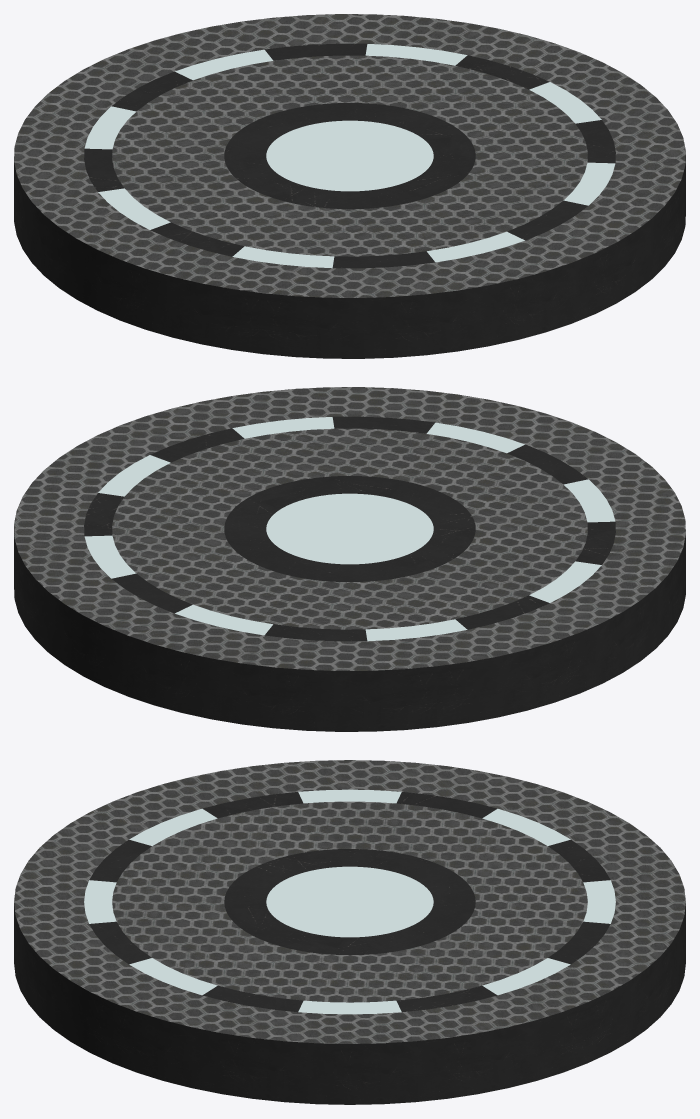
Rendered from RespawnerPlatform.fbx.
3 renders of one model, top to bottom at view 1: azimuth 30°, elevation 25°; view 2: azimuth 150°, elevation 25°; view 3: azimuth 270°, elevation 25°, orthographic.
Parts seen in each view (by area): view 1: Platform, Ring; view 2: Platform, Ring; view 3: Platform, Ring.
Part boxes in pixels (x1,y1,x2,y2): Platform: (14,14,685,358); Ring: (84,43,615,268); Platform: (14,387,685,731); Ring: (84,416,615,641); Platform: (14,760,685,1104); Ring: (84,789,615,1014).
Bounding box in the file's own units: 0.2 × 2 × 2.
